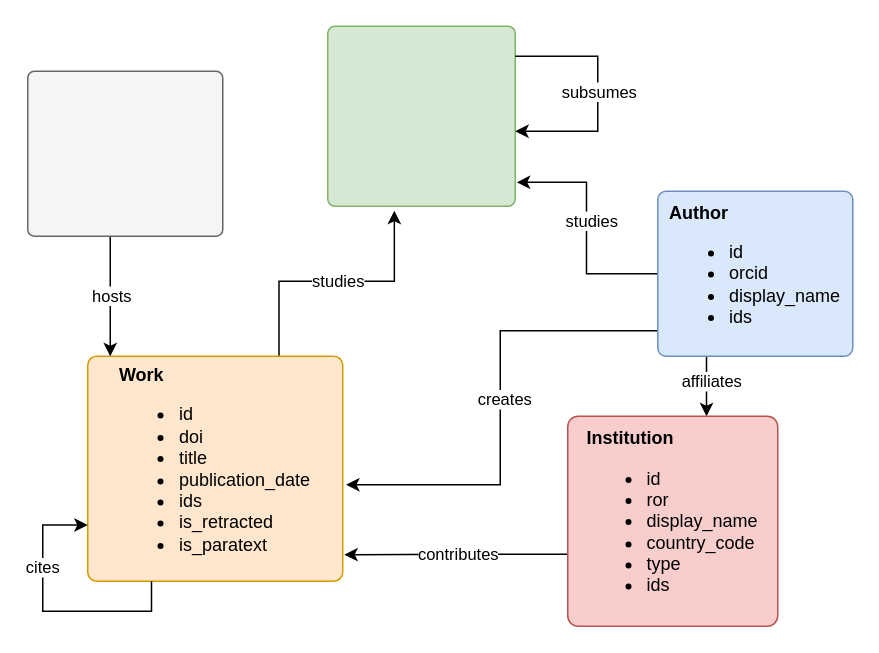
The diagram is 879 pixels wide and 653 high, and some of its shapes have lost their labels. Each missing label, with the centre of its shape:
"Concept id wikidata display_name level description" belongs at [420,115].
"Venue id issn_l display_name publisher" belongs at [124,153].
